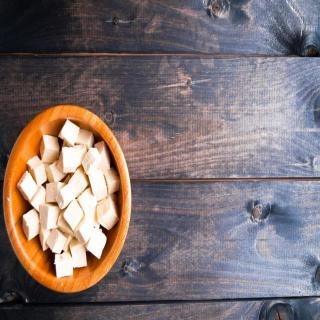Tahu: (12, 118, 123, 268)
